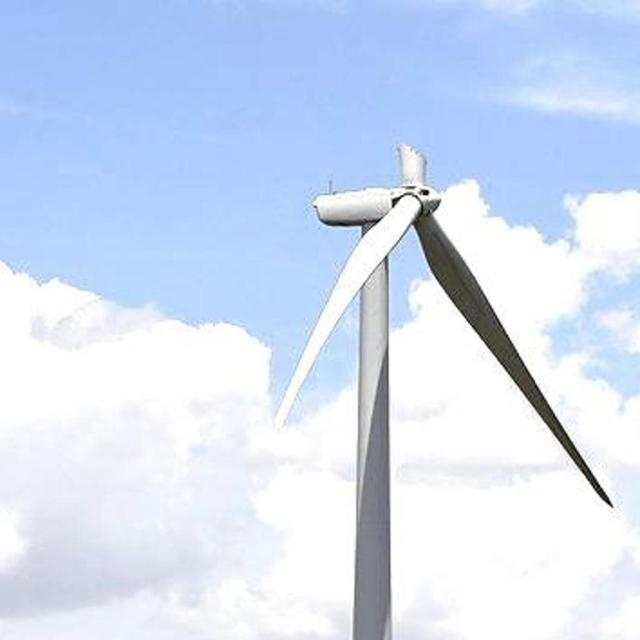crack: (382, 110, 446, 192)
